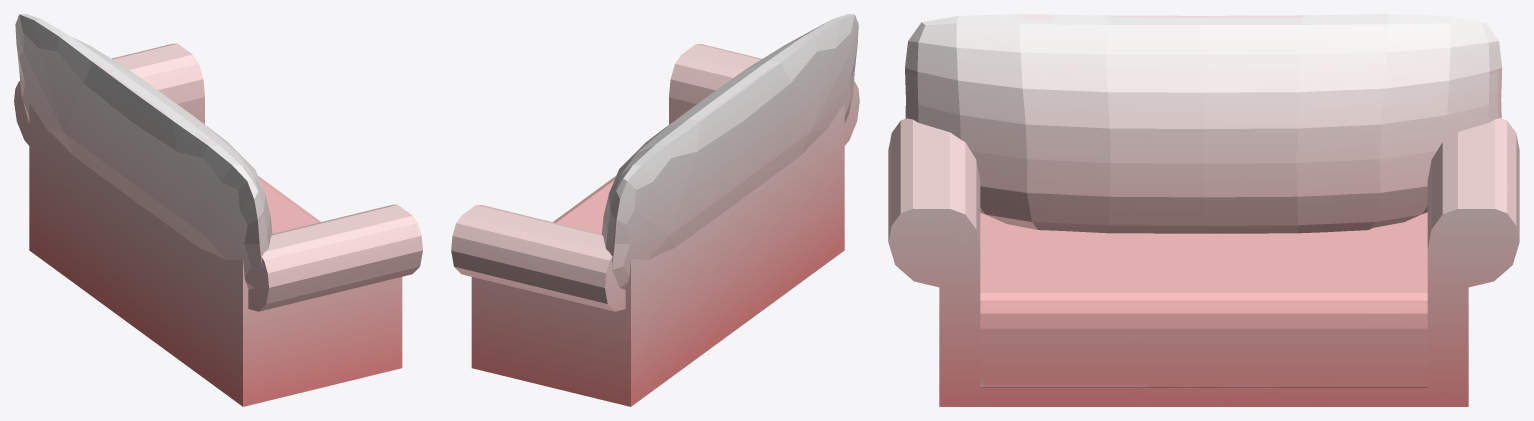
The model's file is ssofa.gltf.
The picture shows the model from 3 angles, left to right: view 1: azimuth 30°, elevation 25°; view 2: azimuth 150°, elevation 25°; view 3: azimuth 270°, elevation 25°; orthographic projection. The views are drawn at different scales.
Visible parts, largest first — view 1: sofa; view 2: sofa; view 3: sofa.
Boxes of the visible parts, x1,y1,x2,y2 form: sofa: (14,14,422,406); sofa: (451,14,859,406); sofa: (888,14,1519,406).
Size of the model in its own units: 0.7474 by 0.9879 by 1.91.
1 material, 1 textured.
